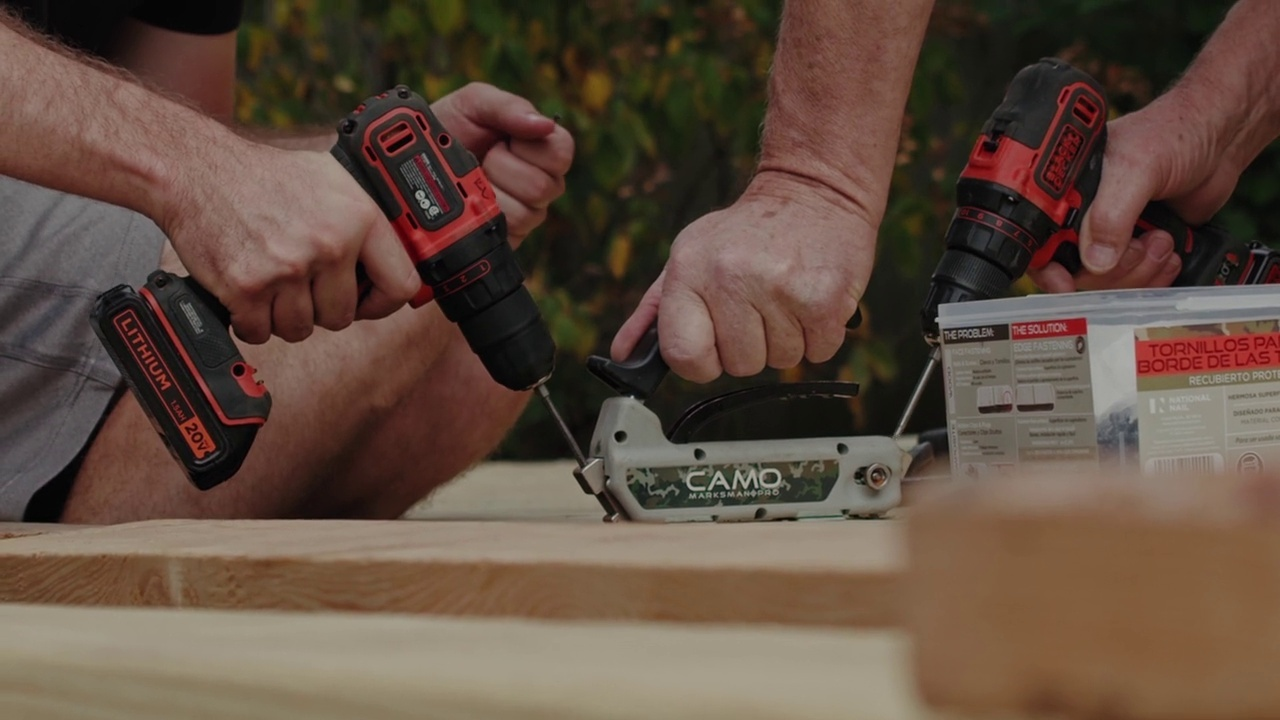driller: (86, 79, 588, 494), (889, 53, 1280, 432)
